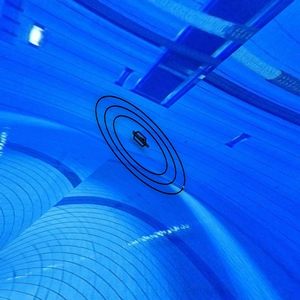circle: (90, 92, 189, 199)
submarine: (131, 126, 156, 151)
